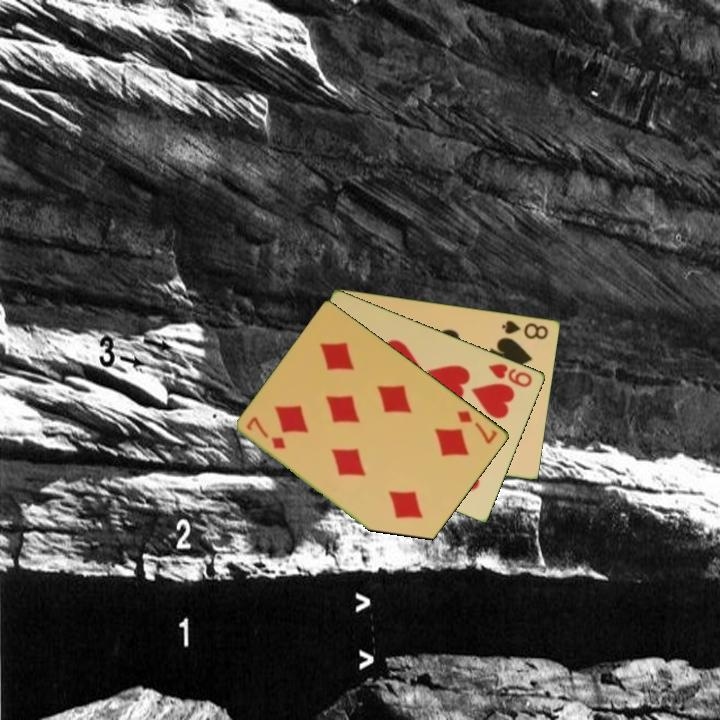7d: (453, 407, 501, 447), (243, 413, 289, 452)
8s: (499, 317, 551, 342)
9h: (485, 360, 535, 390)
